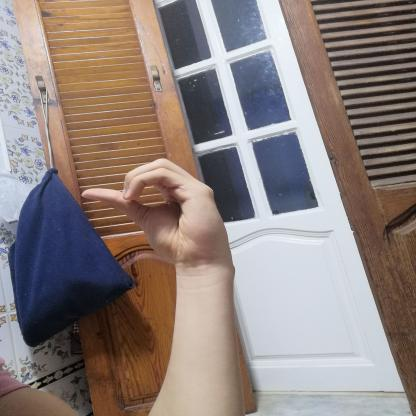WAW: (65, 150, 241, 273)
